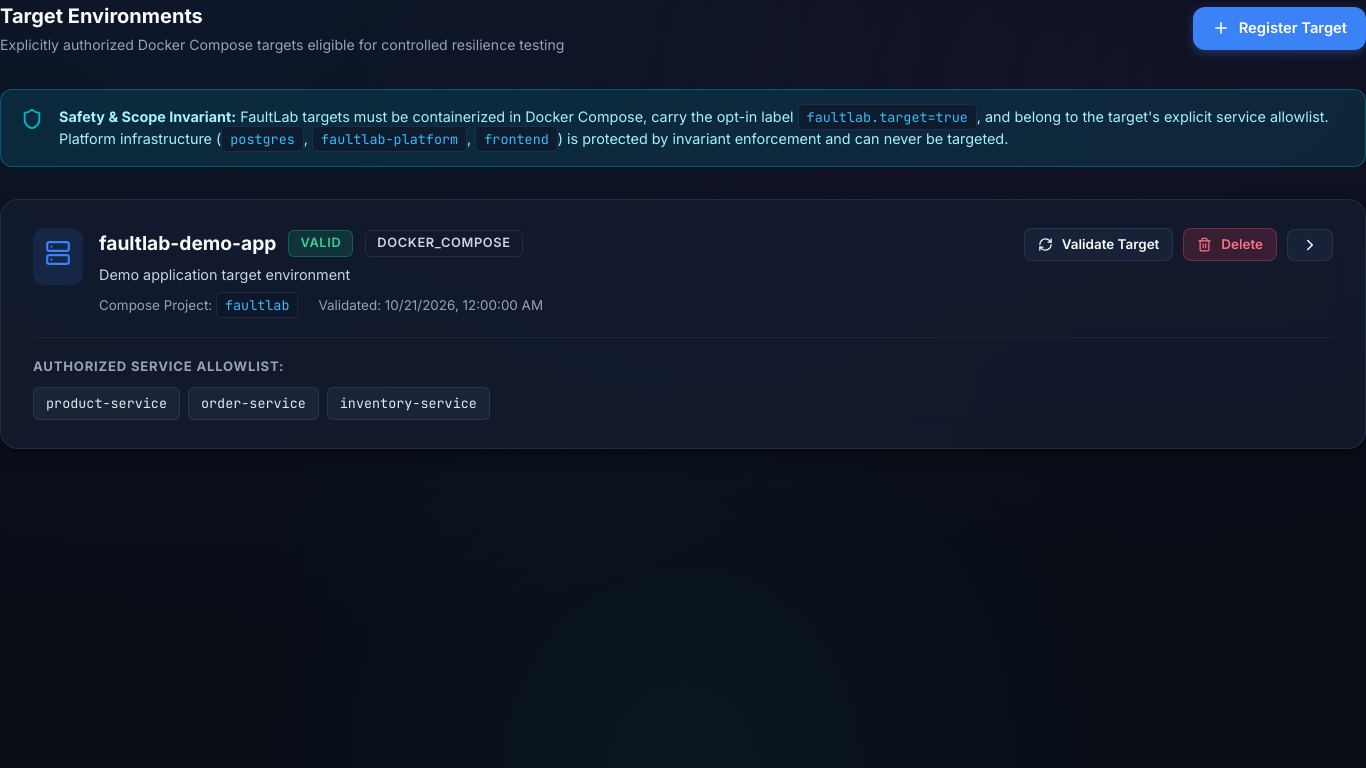
Targets Component › blocks registration if protected service names are entered
Note: Open Register modal
Click the button "Register Target" at coordinates (1279, 28), box [1193, 7, 1365, 50]
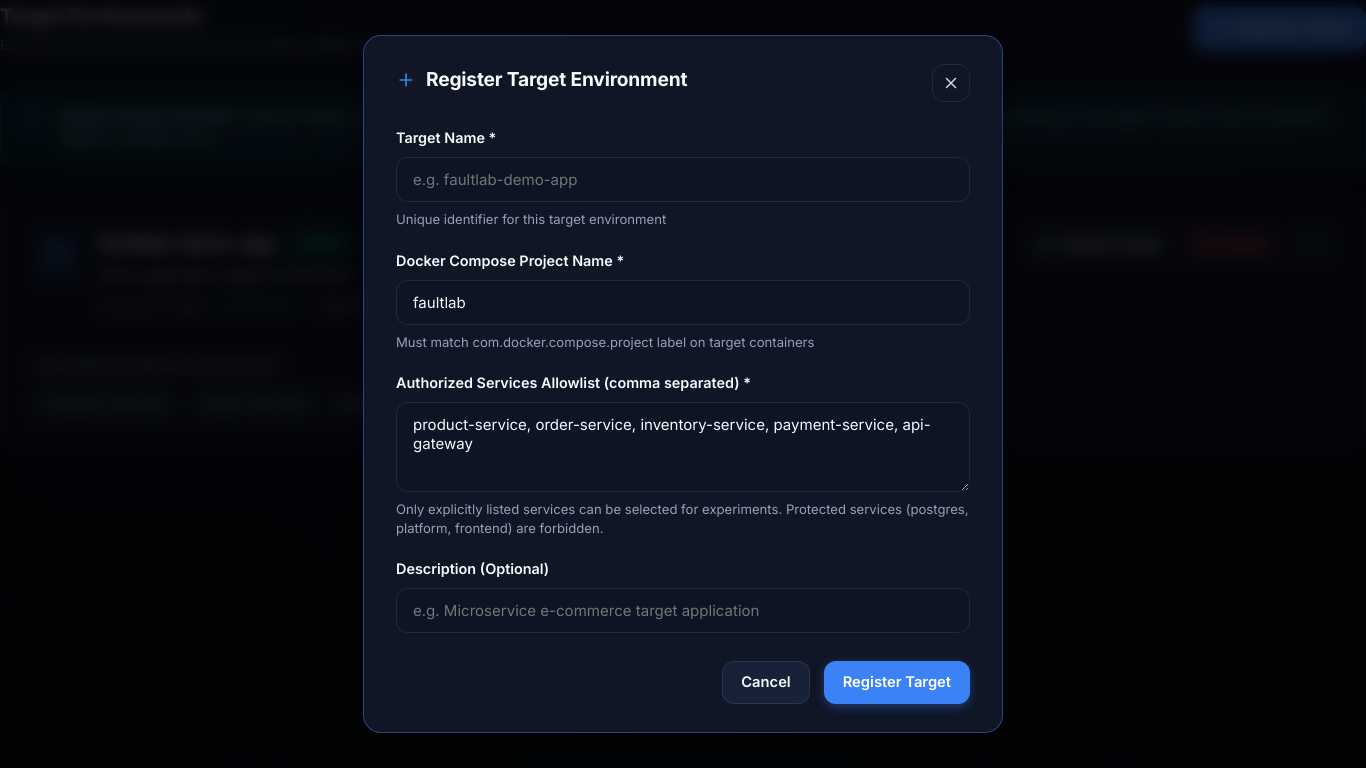
Note: Fill form with protected service postgres
Type "forbidden-app" into the field with placeholder "e.g. faultlab-demo-app" at coordinates (683, 180), box [396, 157, 970, 202]
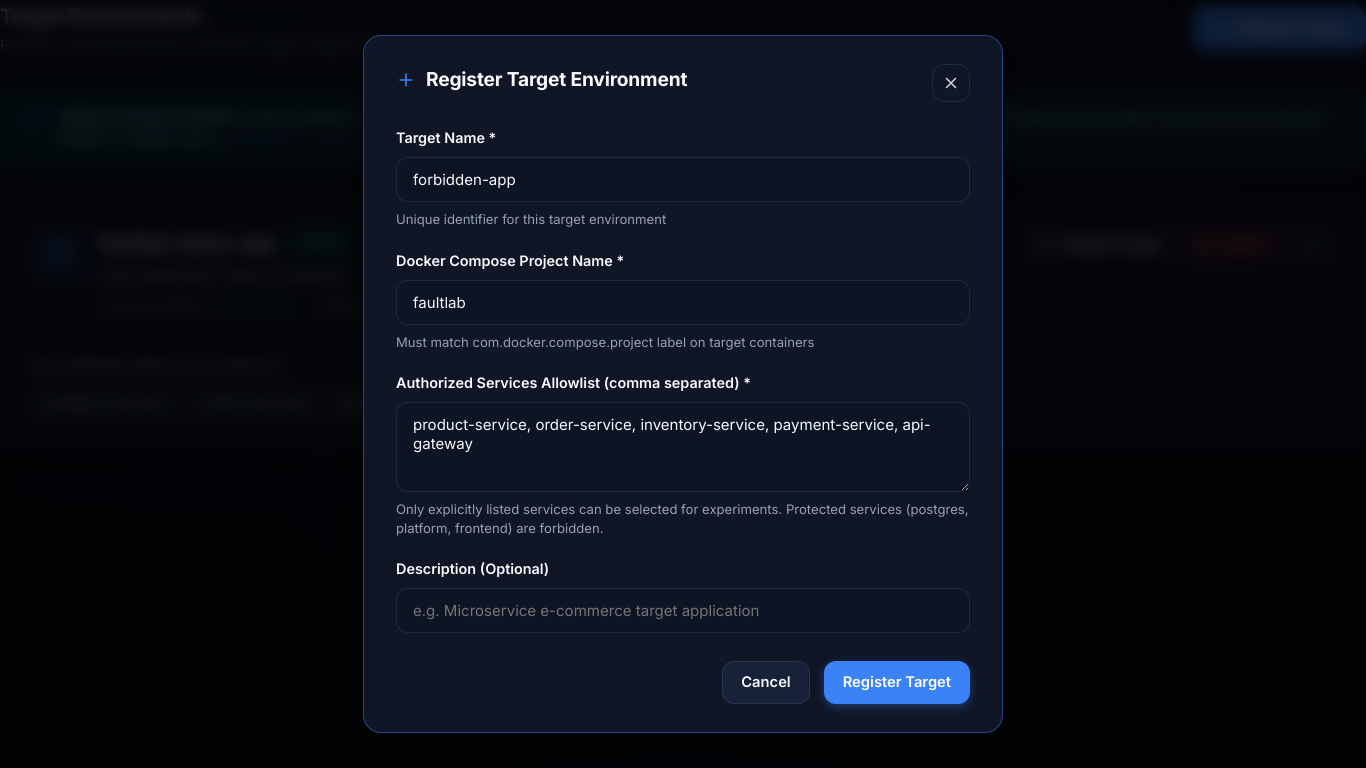
Replace the text in the text box showing "product-service, order-service" with "order-service, postgres" at coordinates (683, 447), box [396, 402, 970, 492]
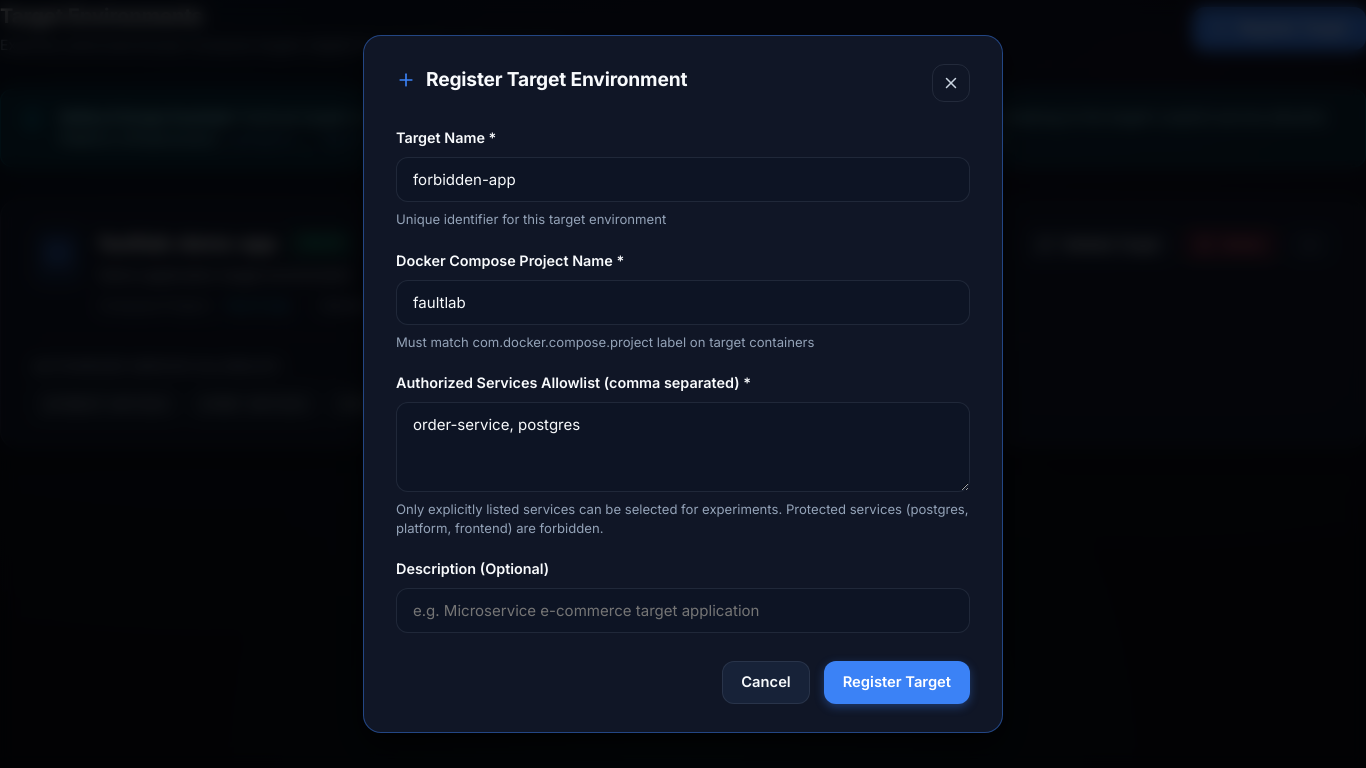
Note: Click submit in modal
Click the button "Register Target" at coordinates (897, 682), box [824, 661, 970, 704]
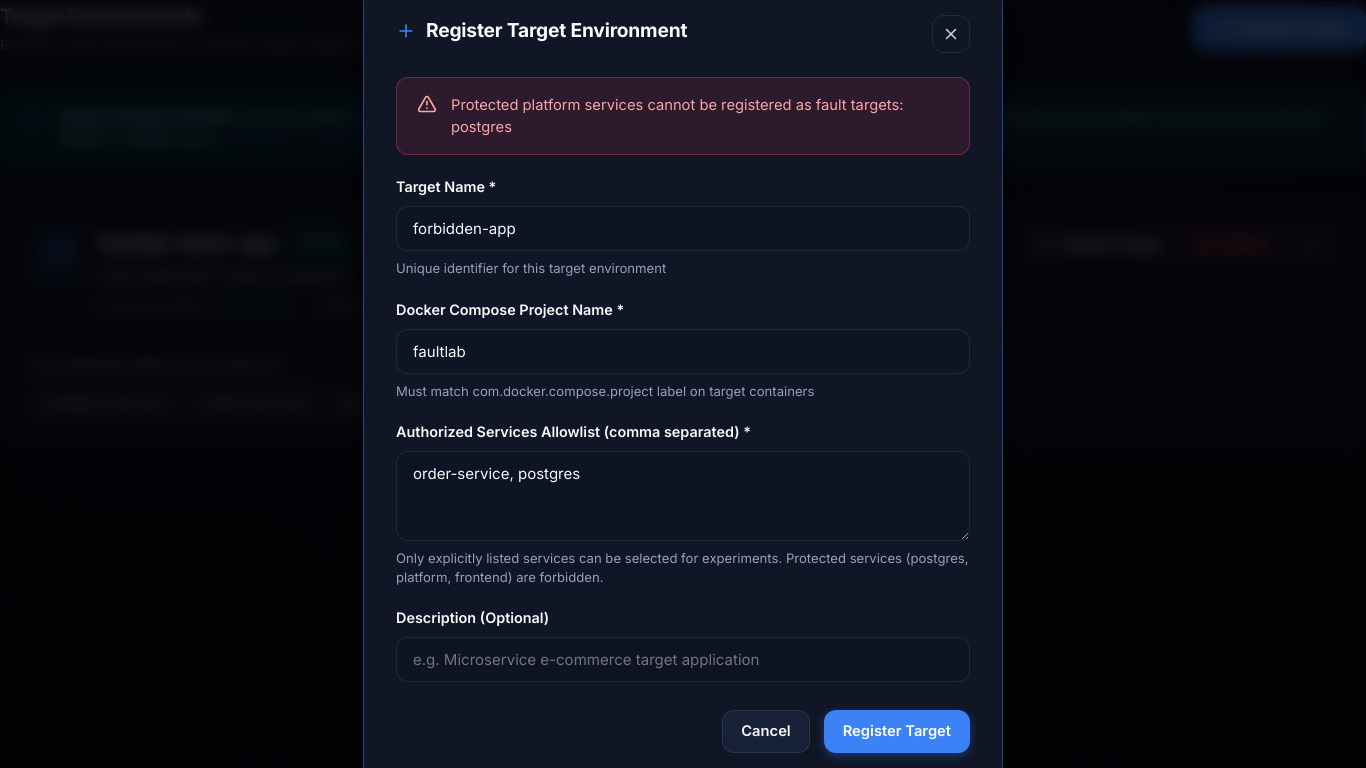
Now the text "Protected platform services cannot be registered as fault targets: postgres" is shown, box [451, 94, 949, 138]
